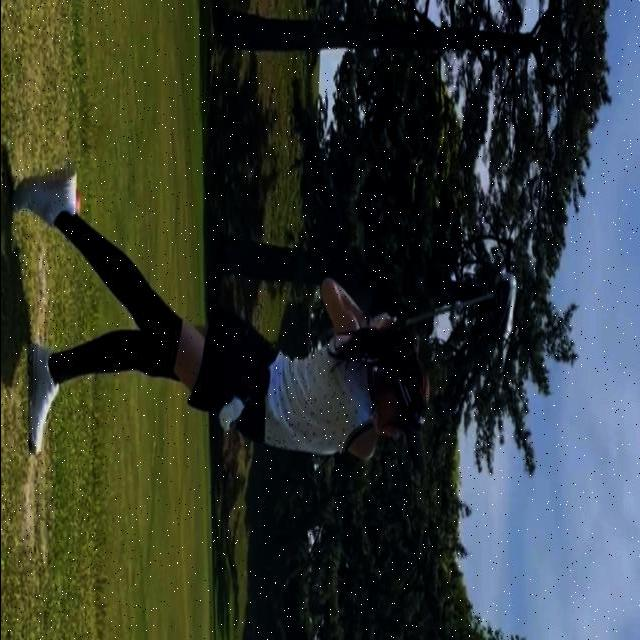golf club-handle: (395, 273, 515, 327)
golf club-head: (492, 271, 515, 323)
